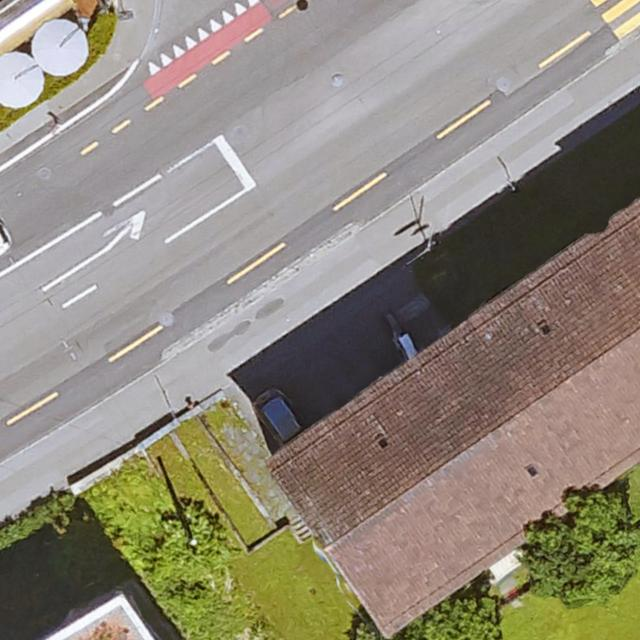tree: (523, 473, 634, 615), (409, 582, 507, 640)
